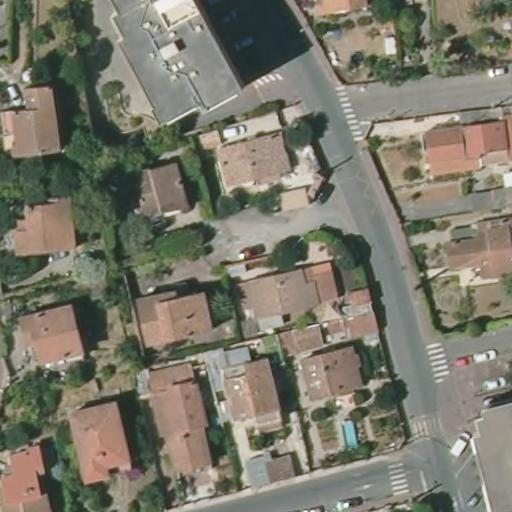pool: (336, 411, 361, 453)
